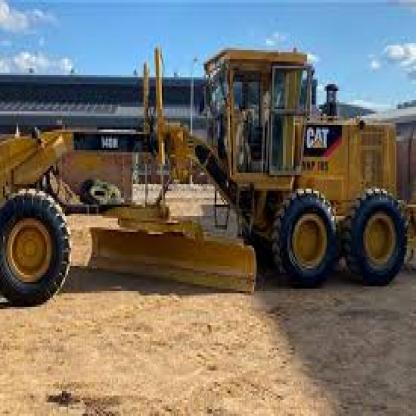bull_dozer/loader/grader: (3, 41, 402, 343)
